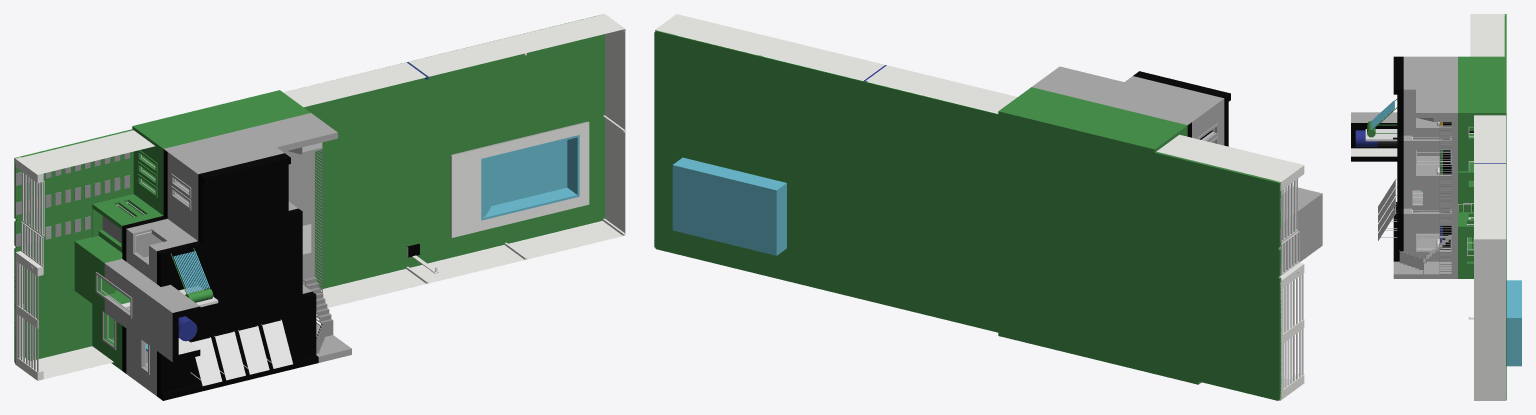
Rendered from casa 10.fbx.
The picture shows the model from 3 angles, left to right: view 1: azimuth 30°, elevation 25°; view 2: azimuth 150°, elevation 25°; view 3: azimuth 270°, elevation 25°; orthographic projection. The views are drawn at different scales.
Parts seen in each view (by area): view 1: PB, TECHO, PA, Body1 (×5), Body3, PILETA, PILE, TECHO PB, Body2, CERCO IZ FRENTE, PARED FRENTE, CERCO DE FRENTE (+5 smaller); view 2: PB, PILETA, Body3, PA, CERCO IZ FRENTE, TECHO, PARED FRENTE, PORTON, TECHO PB, PUERTA PORTON; view 3: PA, PB, Body2, Body3, TECHO, TECHO PB, CERCO IZ FRENTE, PILETA, BARANDA, Body1 (×4), CIELO RASO SUP, ESCALERA TECHO (+4 smaller).
Boxes of the visible parts, left/top/right/bottom form: PB: left=14, top=14, right=604, bottom=370; TECHO: left=141, top=154, right=318, bottom=400; PA: left=95, top=116, right=351, bottom=395; Body1 (×5): left=190, top=221, right=622, bottom=385; Body3: left=283, top=14, right=623, bottom=107; PILETA: left=481, top=135, right=579, bottom=220; PILE: left=450, top=121, right=589, bottom=237; TECHO PB: left=104, top=113, right=314, bottom=373; Body2: left=603, top=14, right=625, bottom=235; CERCO IZ FRENTE: left=22, top=130, right=155, bottom=173; PARED FRENTE: left=15, top=251, right=43, bottom=380; CERCO DE FRENTE: left=30, top=346, right=113, bottom=379; PB: left=654, top=30, right=1281, bottom=400; PILETA: left=672, top=157, right=786, bottom=255; Body3: left=657, top=14, right=1017, bottom=113; PA: left=1036, top=66, right=1286, bottom=271; CERCO IZ FRENTE: left=1156, top=134, right=1297, bottom=180; TECHO: left=1135, top=71, right=1322, bottom=267; PARED FRENTE: left=1279, top=262, right=1304, bottom=400; PORTON: left=1281, top=179, right=1297, bottom=242; TECHO PB: left=1032, top=84, right=1191, bottom=137; PUERTA PORTON: left=1279, top=231, right=1299, bottom=276; PA: left=1393, top=56, right=1451, bottom=278; PB: left=1458, top=14, right=1506, bottom=400; Body2: left=1474, top=238, right=1505, bottom=400; Body3: left=1474, top=115, right=1505, bottom=238; TECHO: left=1351, top=56, right=1400, bottom=261; TECHO PB: left=1451, top=56, right=1457, bottom=278; CERCO IZ FRENTE: left=1470, top=16, right=1504, bottom=56; PILETA: left=1506, top=280, right=1521, bottom=366; BARANDA: left=1439, top=118, right=1451, bottom=274; Body1 (×4): left=1378, top=179, right=1397, bottom=240; CIELO RASO SUP: left=1401, top=56, right=1403, bottom=251; ESCALERA TECHO: left=1399, top=235, right=1451, bottom=274.
Bounding box in the file's own units: 30033 × 10301 × 9600.
